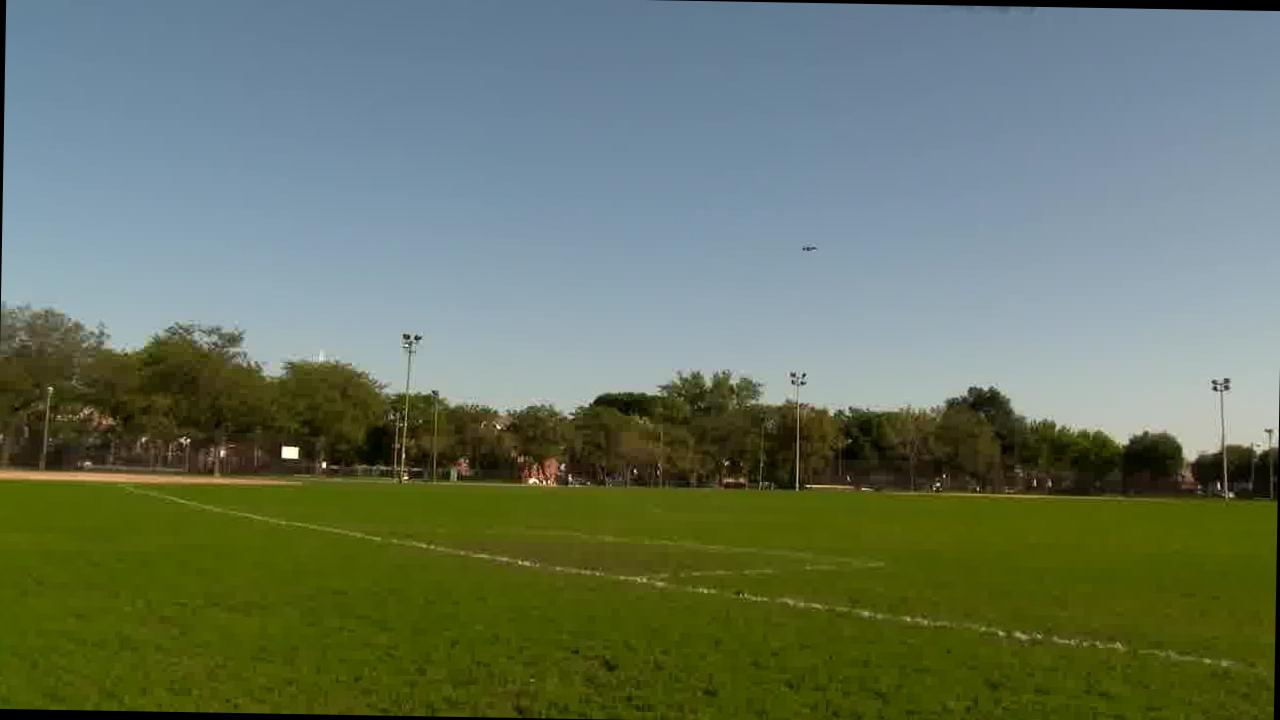drone: (789, 234, 828, 253)
